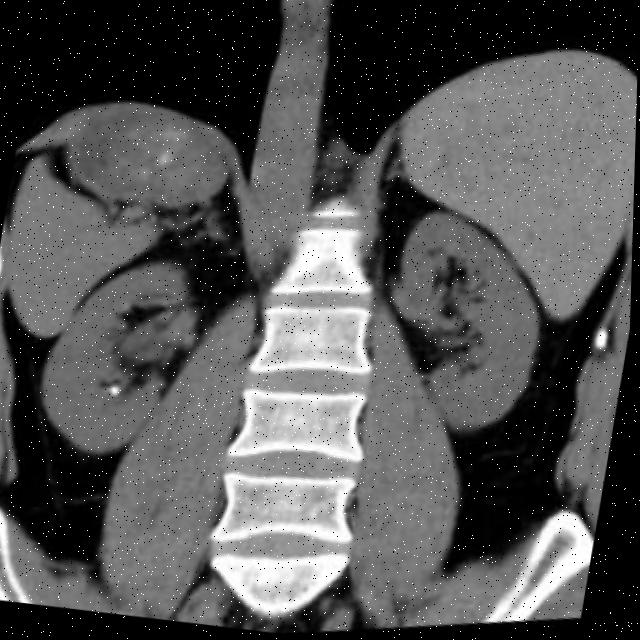Tas_Var: (107, 380, 126, 400)
